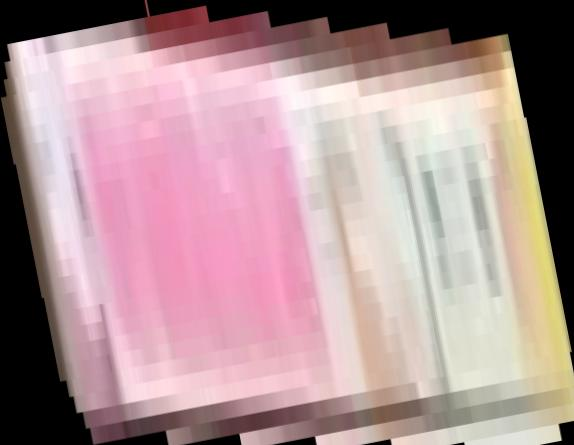flat: (1, 1, 574, 445)
